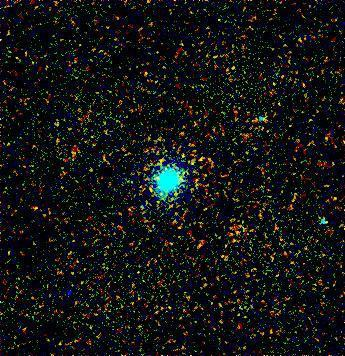star: (55, 275, 85, 305)
